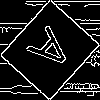A: (25, 25, 83, 81)
